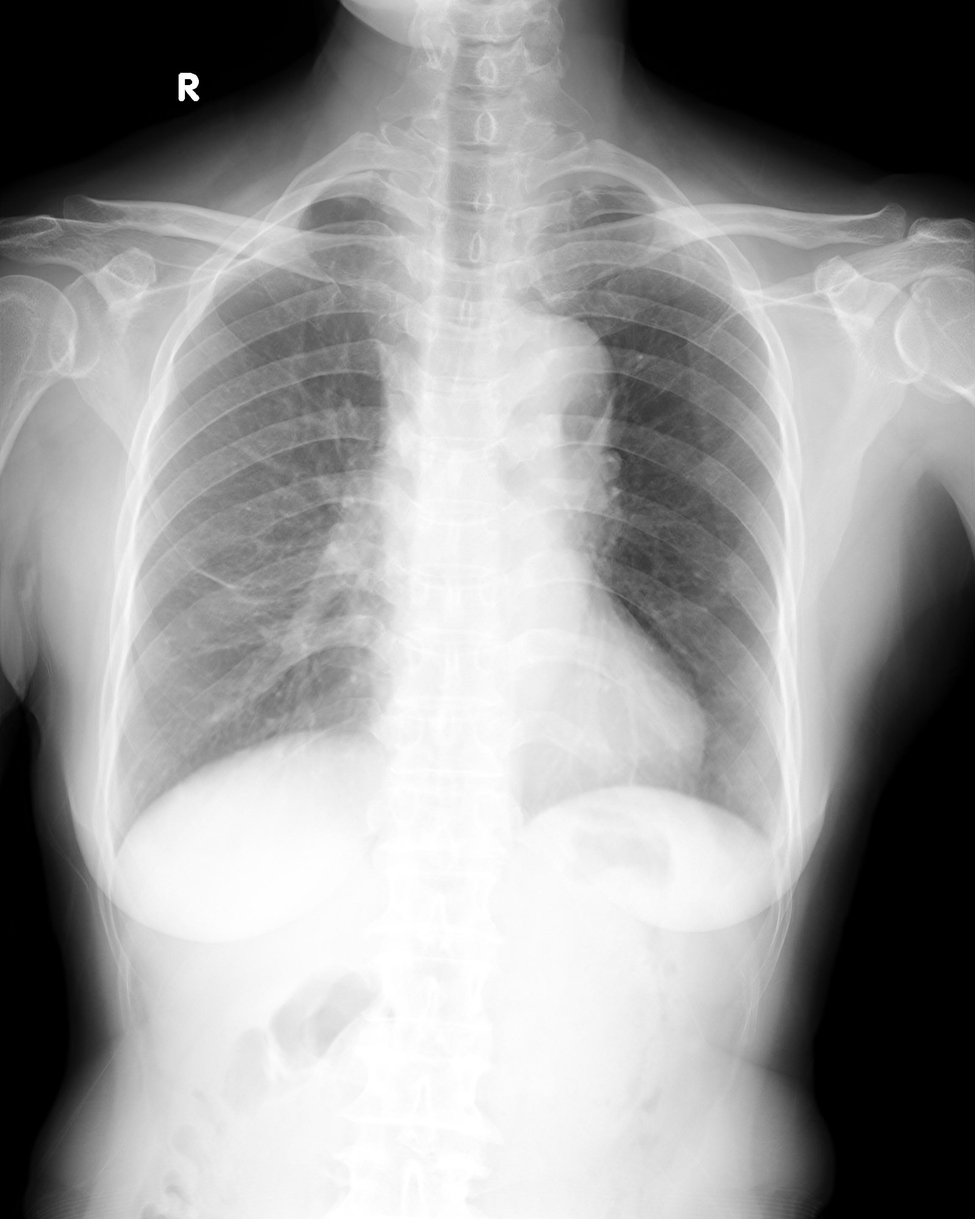Aortic enlargement: (483, 312, 614, 474)
Pulmonary fibrosis: (179, 553, 353, 652)
